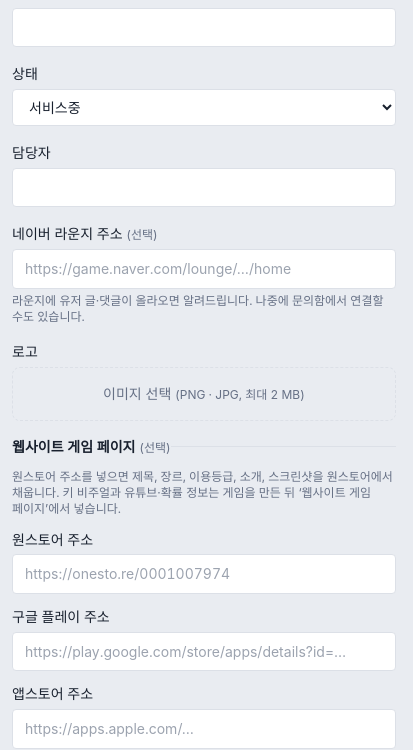
Test case: GameForm › shows a failure message and re-enables the button when the request throws
Type "여신키우기" into the field labelled "게임명" at [204, 28], box [12,8,396,47]
(page scrolled)
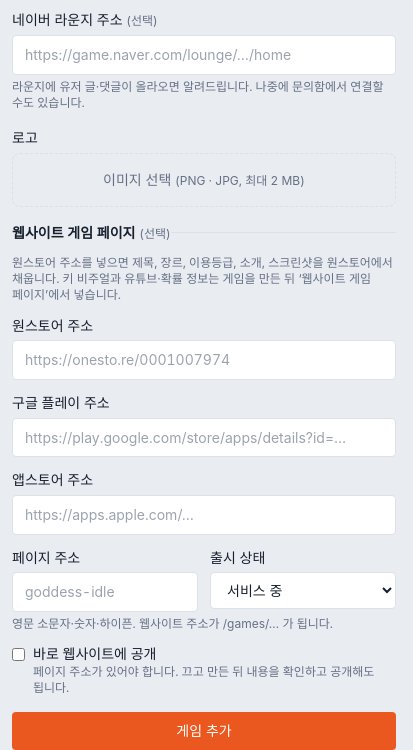
Click the button "게임 추가" at [204, 731], box [12,712,396,749]
(page scrolled)
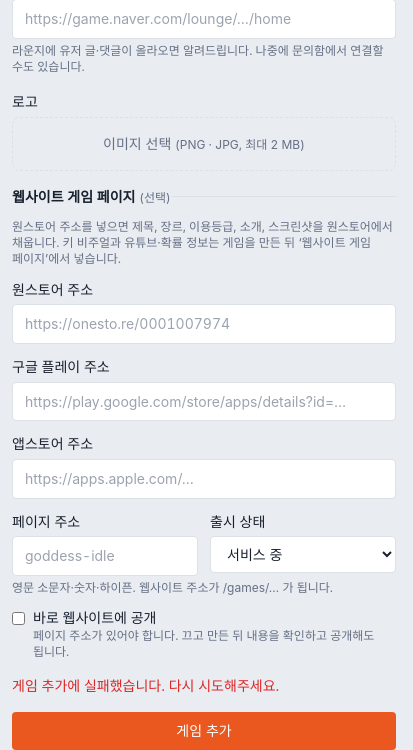
Expected: the text "게임 추가에 실패했습니다. 다시 시도해주세요." is shown, [12,677,279,694]
